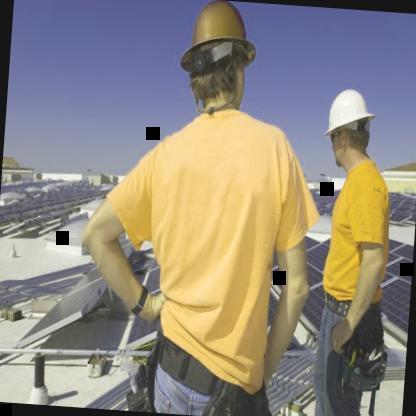helmet: (175, 0, 265, 125), (317, 75, 385, 183)
